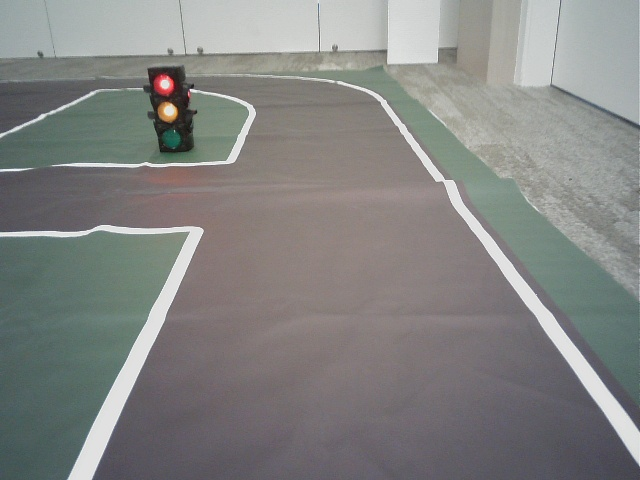red: (149, 68, 187, 149)
